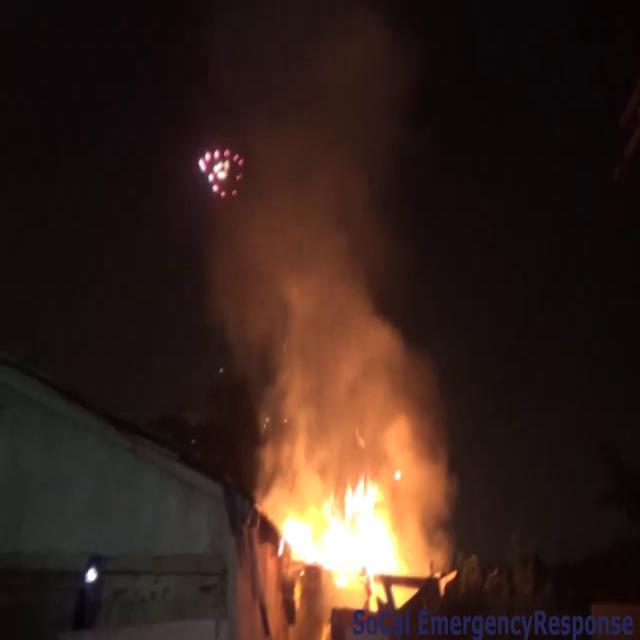Fire: (266, 462, 422, 596)
Smoke: (168, 5, 456, 493)
